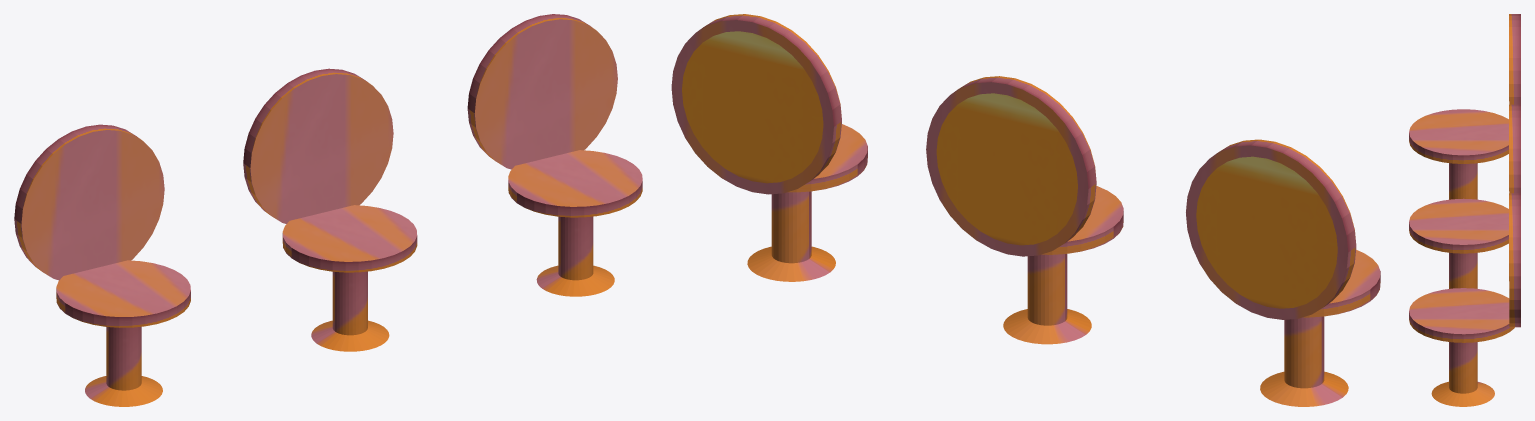
File: Chair.fbx
3 views of the same model, side by side, from view 1: azimuth 30°, elevation 25°; view 2: azimuth 150°, elevation 25°; view 3: azimuth 270°, elevation 25° (orthographic). The views are drawn at different scales.
Visible parts, largest first — view 1: Jury chair; view 2: Jury chair; view 3: Jury chair.
Boxes of the visible parts, bbox=[...] form: Jury chair: bbox=[14, 14, 642, 406]; Jury chair: bbox=[671, 14, 1380, 406]; Jury chair: bbox=[1409, 14, 1520, 406].
Bounding box in the file's own units: 792 × 303 × 159.
